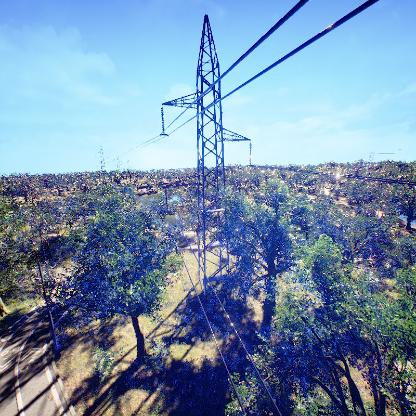tower: (157, 13, 255, 317)
